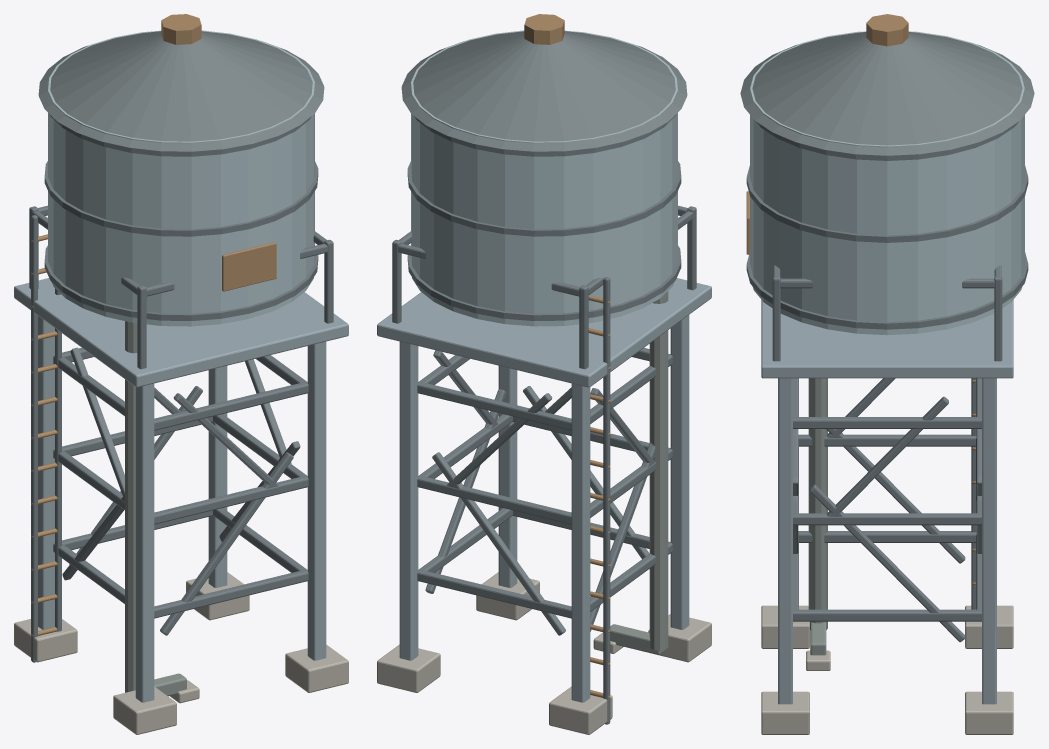
Rendered from rv_water_tower.gltf.
The picture shows the model from 3 angles, left to right: view 1: azimuth 30°, elevation 25°; view 2: azimuth 150°, elevation 25°; view 3: azimuth 270°, elevation 25°; orthographic projection. The views are drawn at different scales.
Visible parts, largest first — view 1: RV_WaterTower; view 2: RV_WaterTower; view 3: RV_WaterTower.
Boxes of the visible parts, left/top/right/bottom form: RV_WaterTower: left=14, top=14, right=348, bottom=734; RV_WaterTower: left=377, top=14, right=711, bottom=734; RV_WaterTower: left=740, top=14, right=1034, bottom=734.
Bounding box in the file's own units: 3.32 × 8.24 × 3.32.
